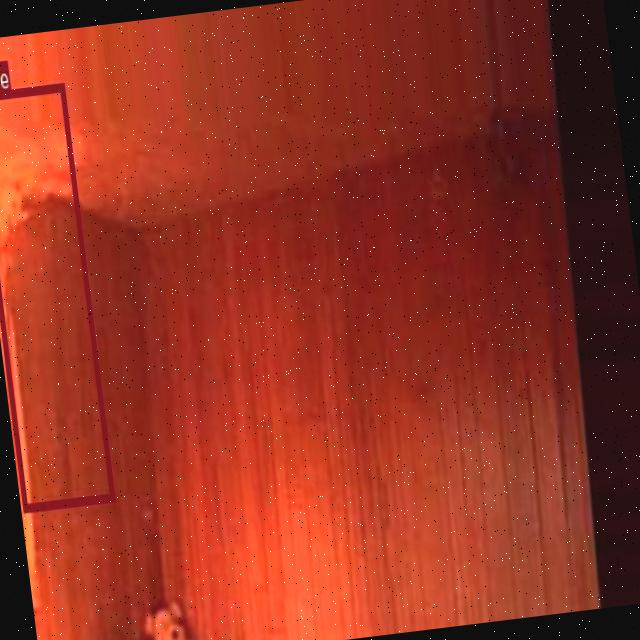fire: (0, 81, 113, 509)
